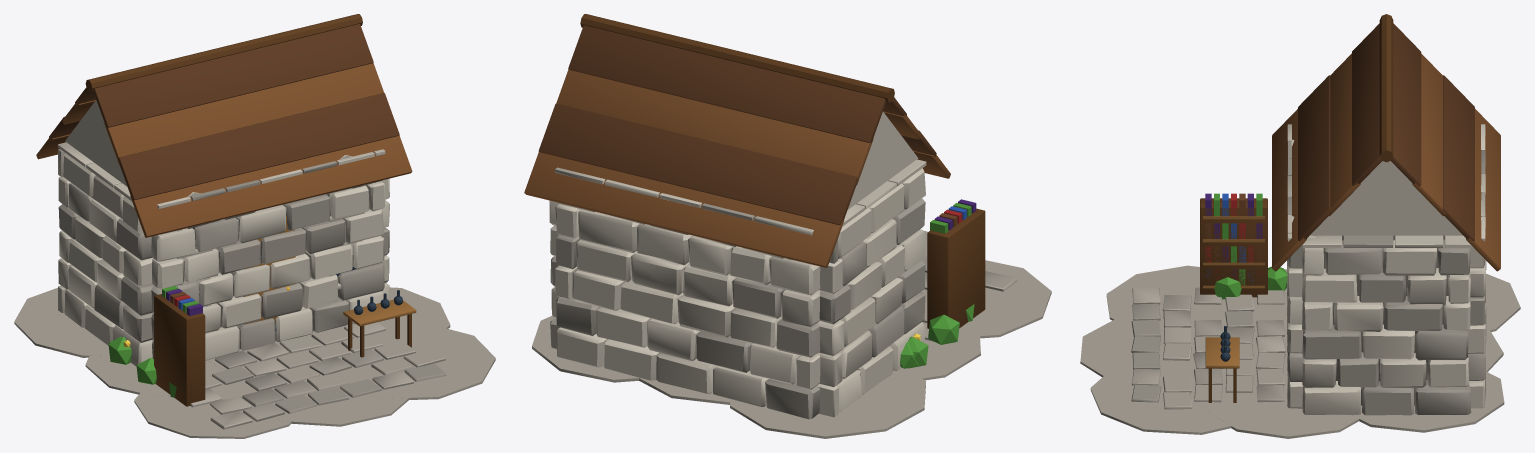
Rendered from akademia_poz11.glb.
The picture shows the model from 3 angles, left to right: view 1: azimuth 30°, elevation 25°; view 2: azimuth 150°, elevation 25°; view 3: azimuth 270°, elevation 25°; orthographic projection. The views are drawn at different scales.
Parts seen in each view (by area): view 1: akademia_poz11; view 2: akademia_poz11; view 3: akademia_poz11.
Boxes of the visible parts, <box> form: akademia_poz11: <box>14,14,495,438</box>; akademia_poz11: <box>524,14,1051,438</box>; akademia_poz11: <box>1080,14,1520,438</box>.
Bounding box in the file's own units: 7.26 × 5.46 × 7.78.
